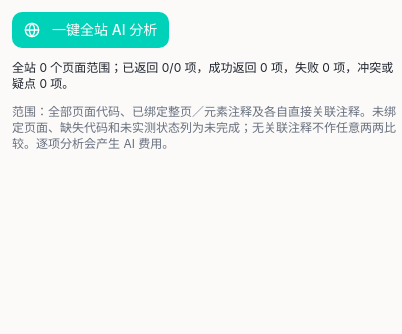
it: pauses on failure, continues remaining work only, and never automatically retries a billed attempt
The image size is (402, 334).
Later steps or results of the test are not shown.
Click the button "一键全站 AI 分析".
click(91, 30)  # box [12, 12, 169, 48]
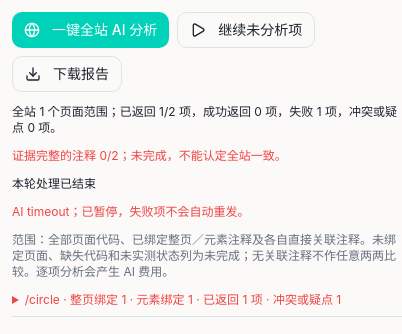
expect the button "继续未分析项" is shown: met, box [177, 12, 315, 48]
